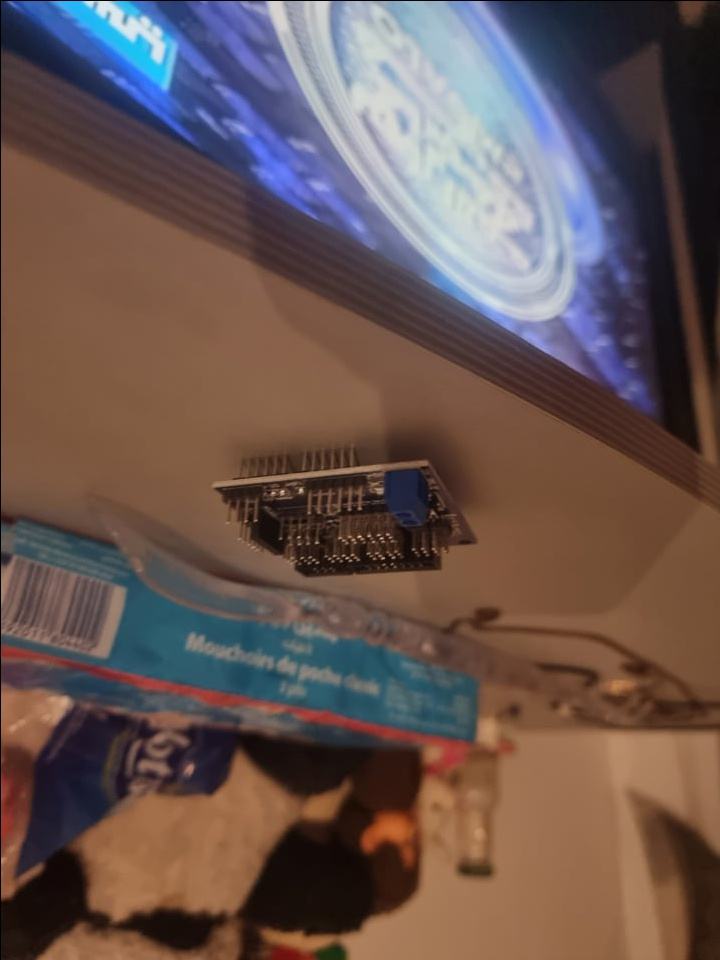5V EXPANSION: (209, 455, 477, 580)
